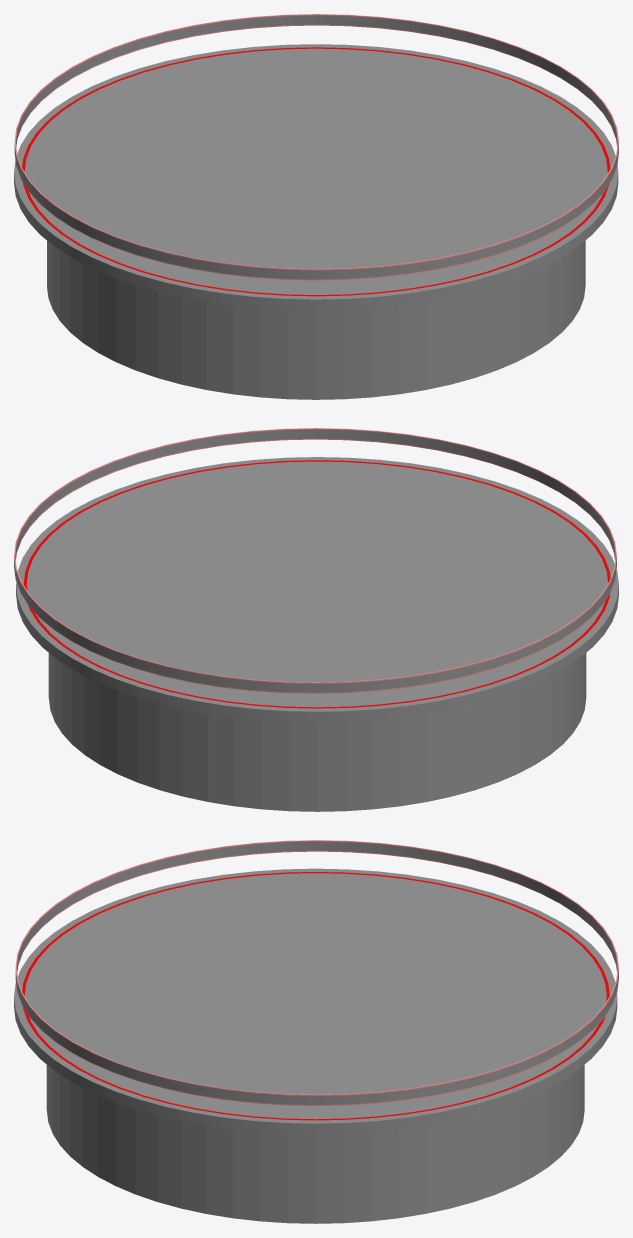
File: BaseStadium.FBX
3 views of the same model, one above another, from view 1: azimuth 30°, elevation 25°; view 2: azimuth 150°, elevation 25°; view 3: azimuth 270°, elevation 25° (orthographic).
Visible parts, largest first — view 1: Cylinder001, Tube001; view 2: Cylinder001, Tube001; view 3: Cylinder001, Tube001.
Part boxes in pixels (x1,y1,x2,y2): Cylinder001: (14,44,618,399); Tube001: (14,14,618,280); Cylinder001: (16,457,618,811); Tube001: (14,428,616,693); Cylinder001: (14,868,617,1223); Tube001: (15,840,618,1105).
Size of the model in its own units: 50.13 by 50.13 by 13.09.
